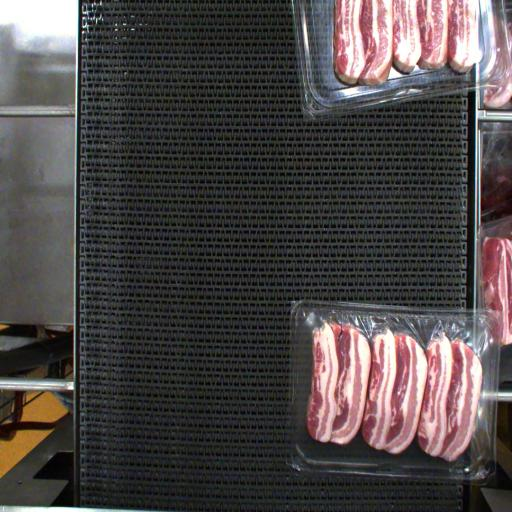unsealed: (296, 297, 489, 485)
